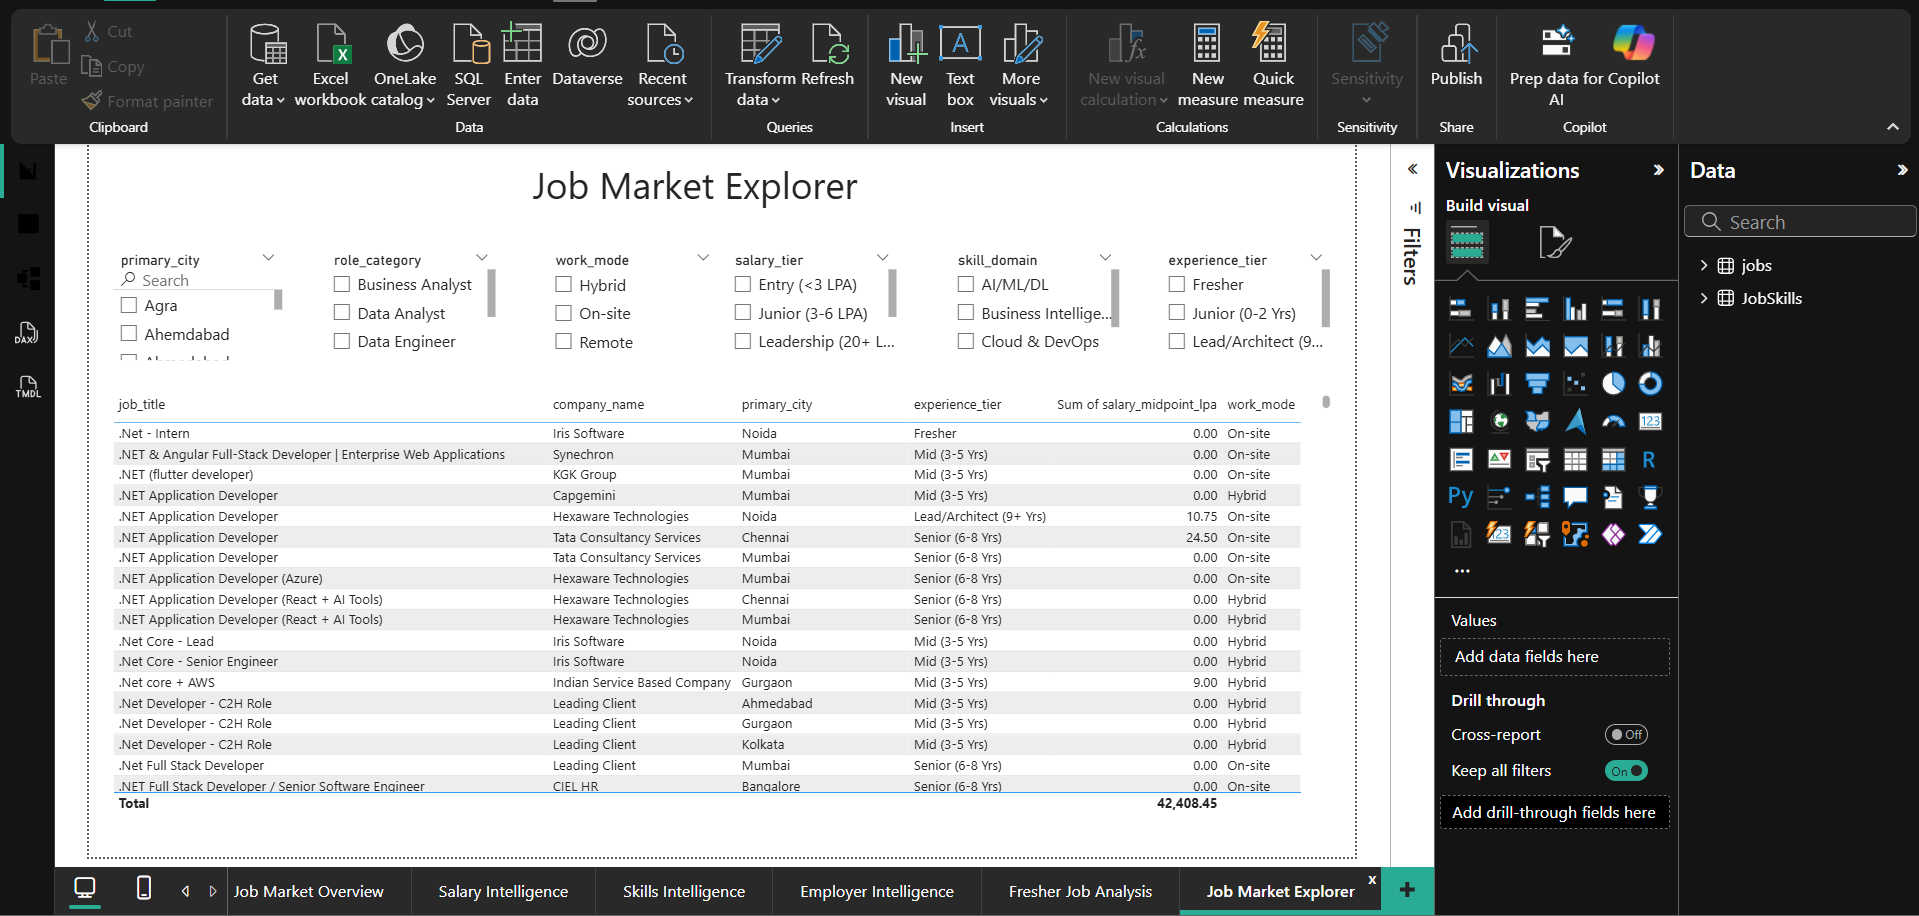

Layout of this report page (visuals, bound fields, positions):
{"tool":"powerbi","page":{"name":"Job Market Explorer","canvas":[1280,720],"ordinal":5},"visuals":[{"type":"tableEx","fields":{"Values":["jobs.job_title","jobs.company_name","jobs.primary_city","jobs.experience_tier","Sum(jobs.salary_midpoint_lpa)","jobs.work_mode"]},"box":[18.6,248.6,1241.4,432.9],"z":0},{"type":"textbox","box":[444.3,11.4,391.4,72.9],"z":1000},{"type":"slicer","fields":{"Values":["jobs.primary_city"]},"box":[18.6,104.3,181.4,120],"z":1001},{"type":"slicer","fields":{"Values":["jobs.experience_tier"]},"box":[1078.6,104.3,181.4,120],"z":1002},{"type":"slicer","fields":{"Values":["jobs.skill_domain"]},"box":[865.7,104.3,181.4,120],"z":1003},{"type":"slicer","fields":{"Values":["jobs.salary_tier"]},"box":[640,104.3,181.4,120],"z":1004},{"type":"slicer","fields":{"Values":["jobs.role_category"]},"box":[234.3,104.3,181.4,120],"z":1005},{"type":"slicer","fields":{"Values":["jobs.work_mode"]},"box":[458.6,104.3,181.4,120],"z":1006}]}

Visuals, with their boxes on the page's 1280x720 design canvas (x1, y1, x2, y2). These are canvas units, not pixel positions in the 1919x916 screenshot, which may show the page scaled, cropped or inside an application window:
tableEx - jobs.job_title x jobs.company_name: {"x1": 19, "y1": 249, "x2": 1260, "y2": 682}
textbox: {"x1": 444, "y1": 11, "x2": 836, "y2": 84}
slicer - jobs.primary_city: {"x1": 19, "y1": 104, "x2": 200, "y2": 224}
slicer - jobs.experience_tier: {"x1": 1079, "y1": 104, "x2": 1260, "y2": 224}
slicer - jobs.skill_domain: {"x1": 866, "y1": 104, "x2": 1047, "y2": 224}
slicer - jobs.salary_tier: {"x1": 640, "y1": 104, "x2": 821, "y2": 224}
slicer - jobs.role_category: {"x1": 234, "y1": 104, "x2": 416, "y2": 224}
slicer - jobs.work_mode: {"x1": 459, "y1": 104, "x2": 640, "y2": 224}
